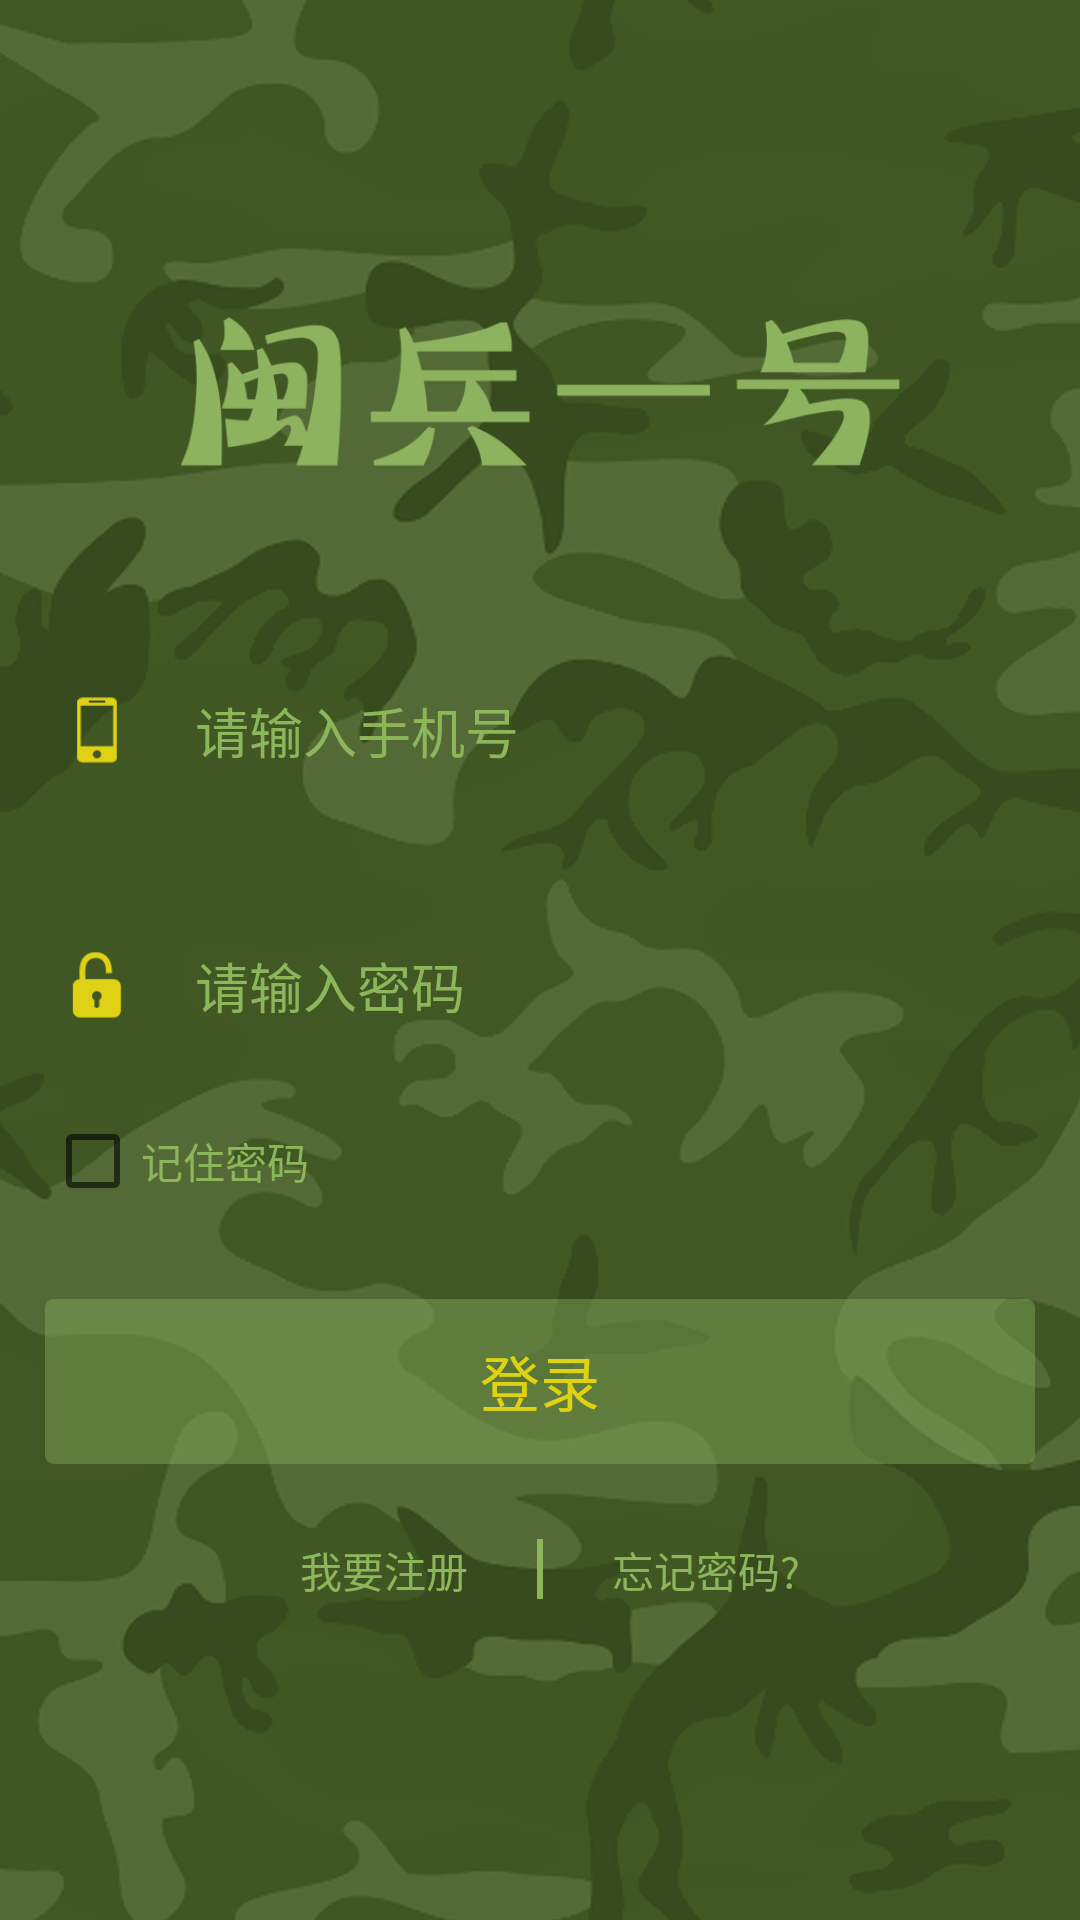

Where to tap for icons on this 1080×1920 app screen, as (x,y):
iconfontmima: (96,985)
shouji: (97,730)
